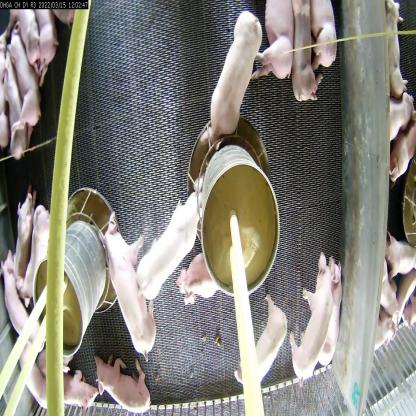Pig: (133, 192, 212, 312), (206, 10, 270, 155), (105, 223, 162, 362), (289, 244, 336, 381), (228, 287, 285, 392), (18, 206, 74, 301), (97, 349, 165, 415), (254, 0, 296, 96), (308, 261, 341, 376), (0, 46, 32, 156), (171, 252, 225, 316), (312, 0, 347, 92), (289, 0, 318, 111), (6, 39, 42, 120), (52, 368, 104, 415), (0, 267, 34, 329)
